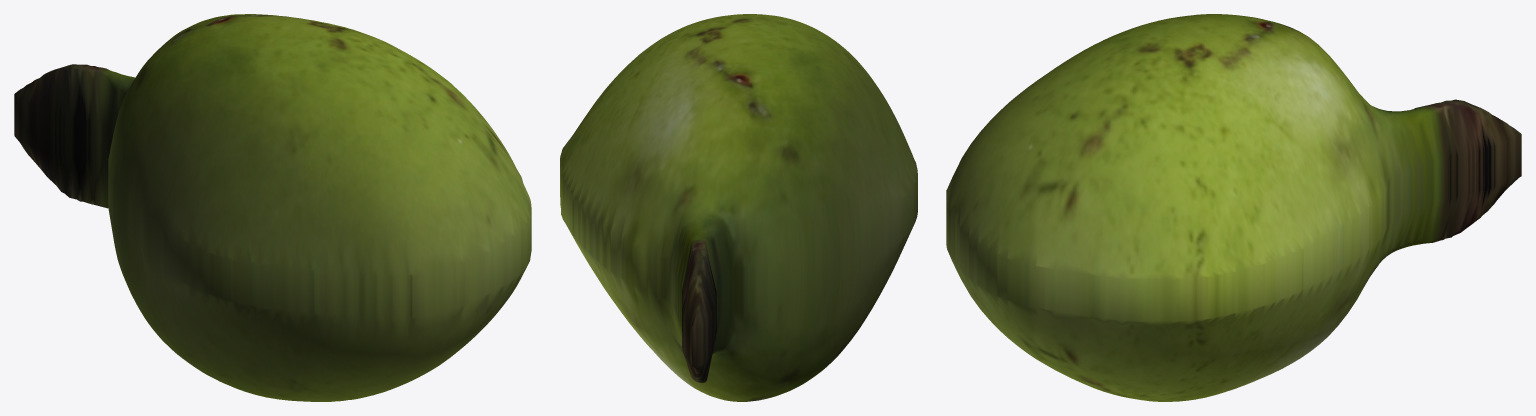
Rendered from green pear_7_0.obj.
3 views of the same model, side by side, from view 1: azimuth 30°, elevation 25°; view 2: azimuth 150°, elevation 25°; view 3: azimuth 270°, elevation 25° (orthographic). The views are drawn at different scales.
Parts seen in each view (by area): view 1: Grid; view 2: Grid; view 3: Grid.
Part boxes in pixels (x1,y1,x2,y2): Grid: (14,14,531,401); Grid: (560,14,917,401); Grid: (946,14,1521,401).
Bounding box in the file's own units: 1.17 × 1.2 × 1.78.
1 material, 1 textured.
